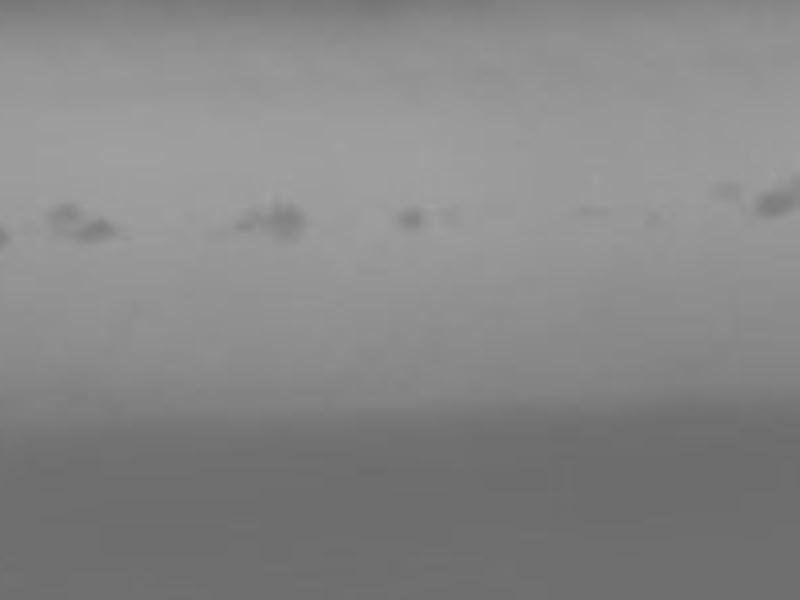defect: (235, 200, 312, 241), (756, 175, 800, 219), (709, 176, 748, 204), (43, 200, 84, 225), (66, 218, 115, 238), (398, 203, 425, 235), (577, 202, 616, 221), (436, 200, 458, 223), (642, 207, 663, 228), (2, 223, 16, 249)
